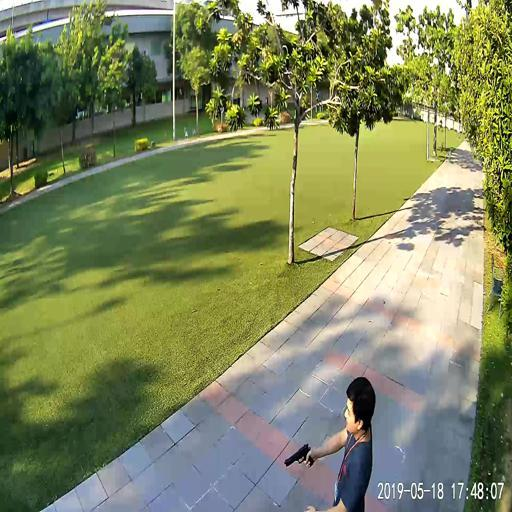Handgun: (283, 442, 312, 467)
